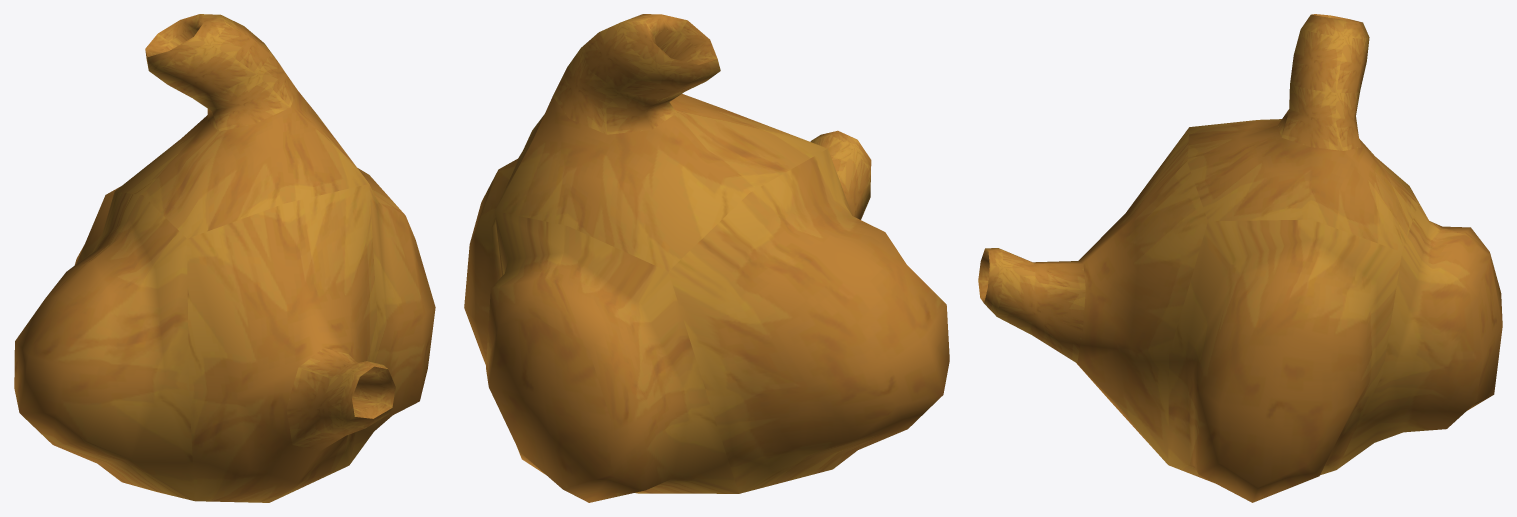
Rendered from ThunderSac.fbx.
3 renders of one model, left to right at view 1: azimuth 30°, elevation 25°; view 2: azimuth 150°, elevation 25°; view 3: azimuth 270°, elevation 25°, orthographic. The views are drawn at different scales.
Parts seen in each view (by area): view 1: Meat; view 2: Meat; view 3: Meat.
Part boxes in pixels (<box>): Meat: <box>14,14,435,502</box>; Meat: <box>464,14,949,502</box>; Meat: <box>978,14,1502,502</box>.
Bounding box in the file's own units: 0.8736 × 0.8921 × 0.9614.
